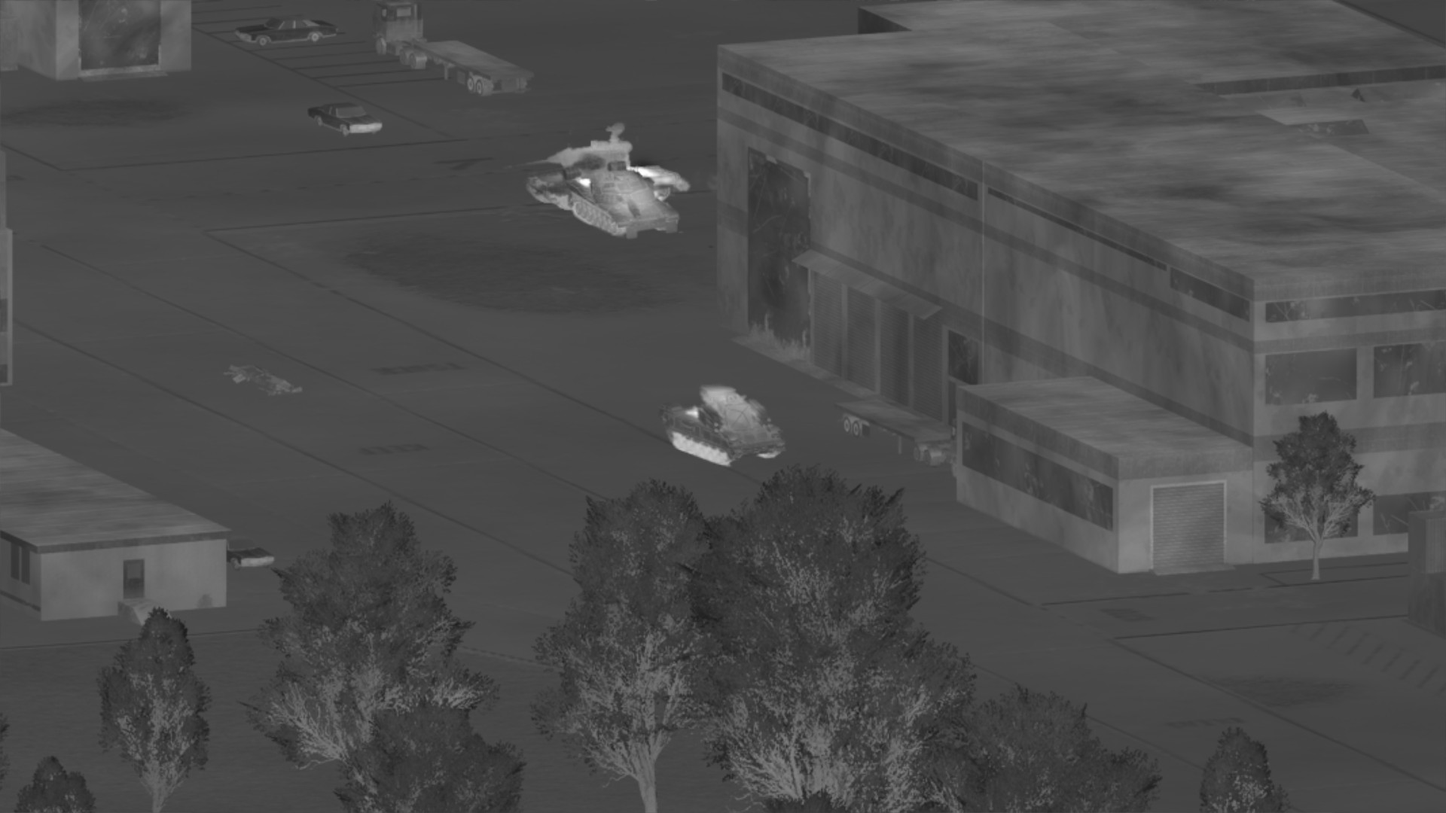abrams: (563, 164, 679, 240)
